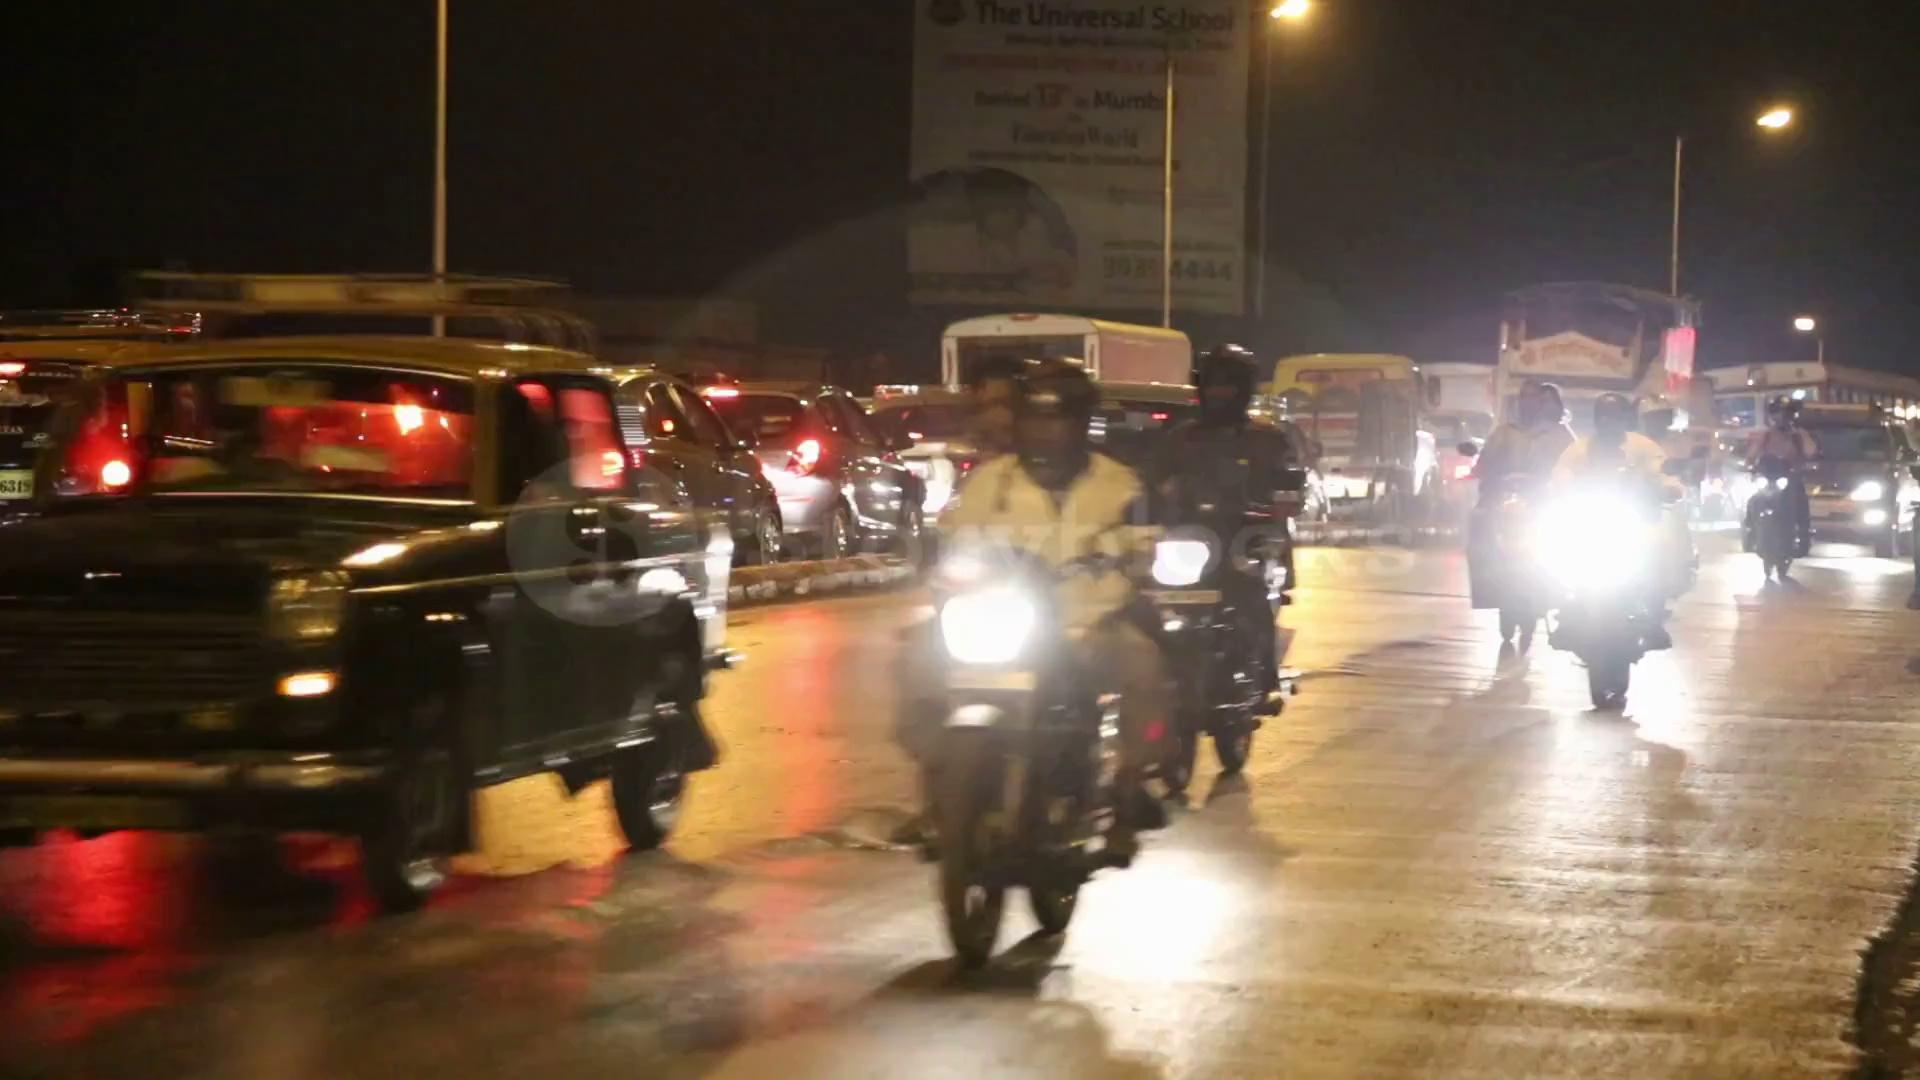rider: (895, 354, 1174, 869), (1148, 340, 1307, 782), (1540, 389, 1686, 709), (1467, 380, 1550, 667), (1743, 395, 1820, 580)
with_helmate: (1019, 367, 1101, 484), (1190, 346, 1260, 414), (1590, 399, 1636, 446), (1769, 390, 1796, 433)
without_helmate: (959, 369, 1020, 456)
